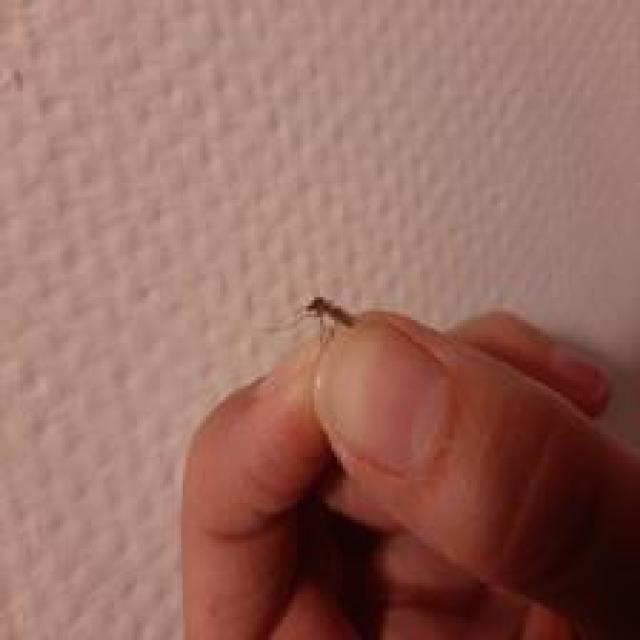Culex: (267, 294, 359, 349)
